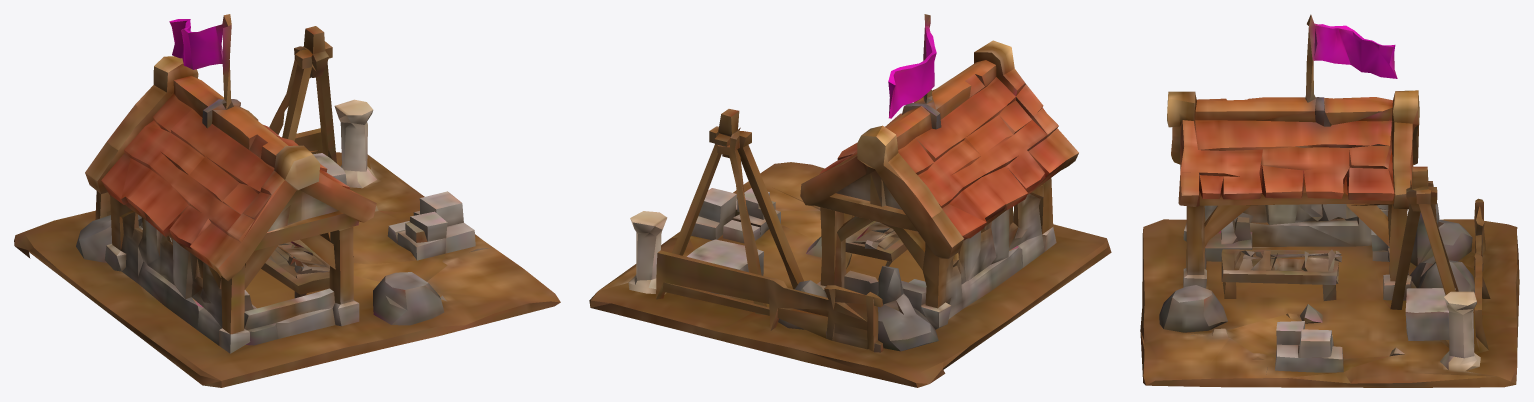
File: stonemason.lod2.glb
3 renders of one model, left to right at view 1: azimuth 30°, elevation 25°; view 2: azimuth 150°, elevation 25°; view 3: azimuth 270°, elevation 25°, orthographic. The views are drawn at different scales.
Visible parts, largest first — view 1: stonemason.lod2_uv; view 2: stonemason.lod2_uv; view 3: stonemason.lod2_uv.
Boxes of the visible parts, <box> form: stonemason.lod2_uv: <box>14,14,560,387</box>; stonemason.lod2_uv: <box>589,14,1111,387</box>; stonemason.lod2_uv: <box>1140,14,1519,387</box>.
Bounding box in the file's own units: 1.89 × 1.43 × 1.88.
1 material, 1 textured.
